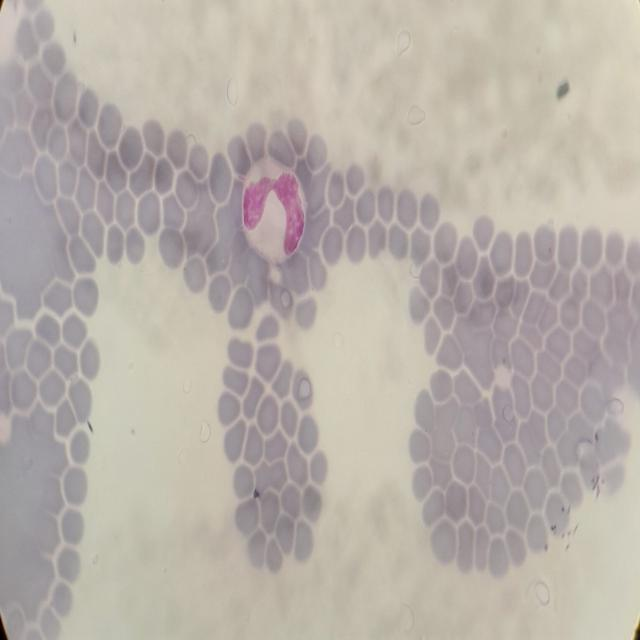Neutrofilo: (236, 155, 310, 259)
